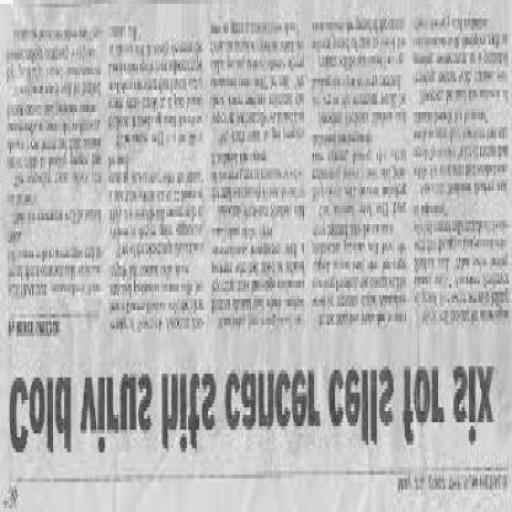paper: (0, 3, 511, 512)
